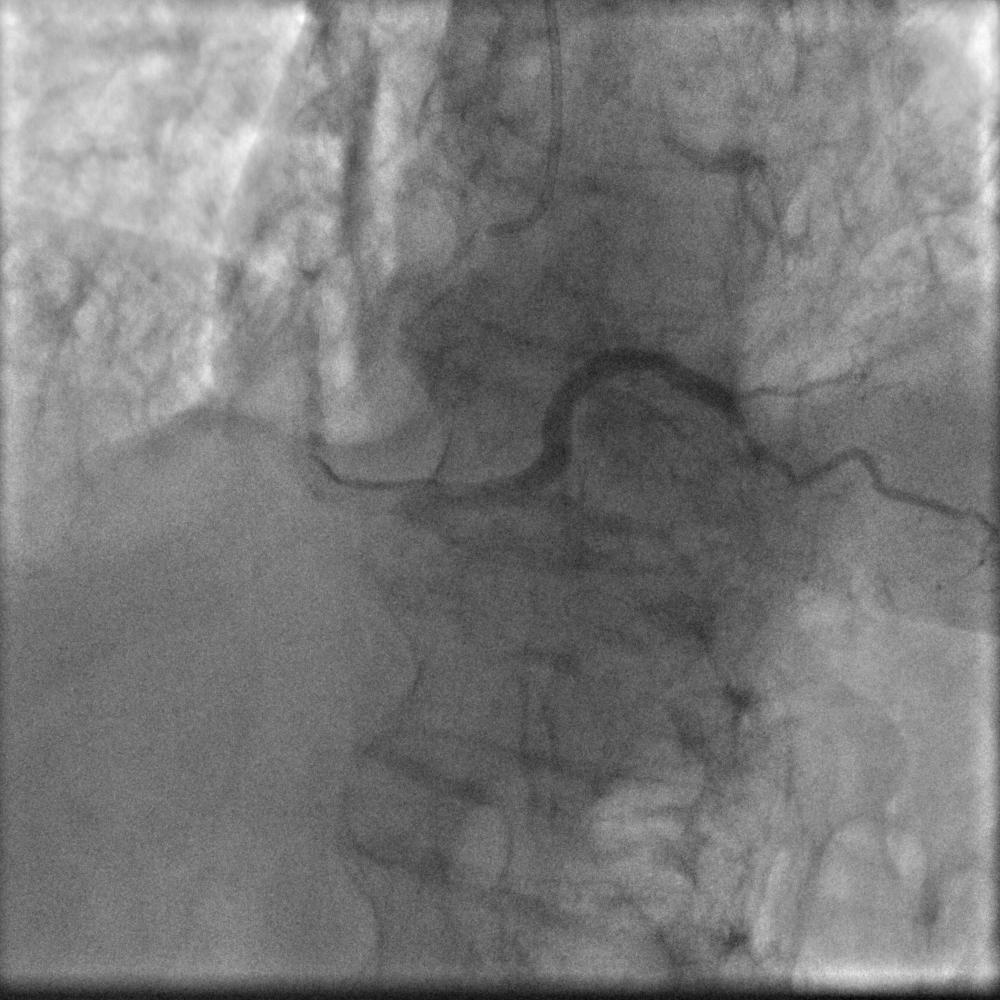Stenosis: (724, 382, 761, 466)
